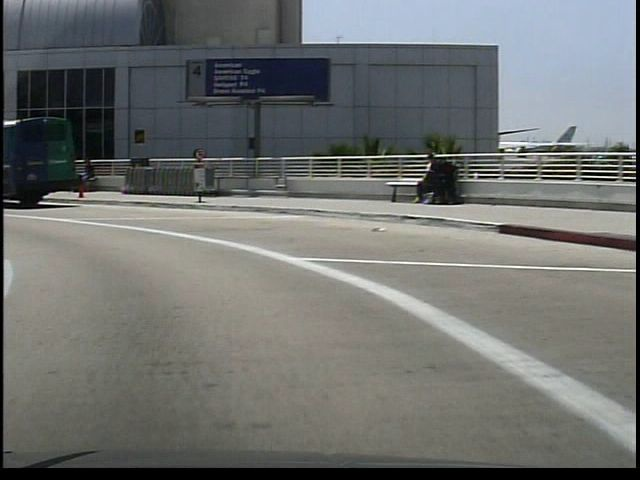person: (76, 154, 97, 197)
